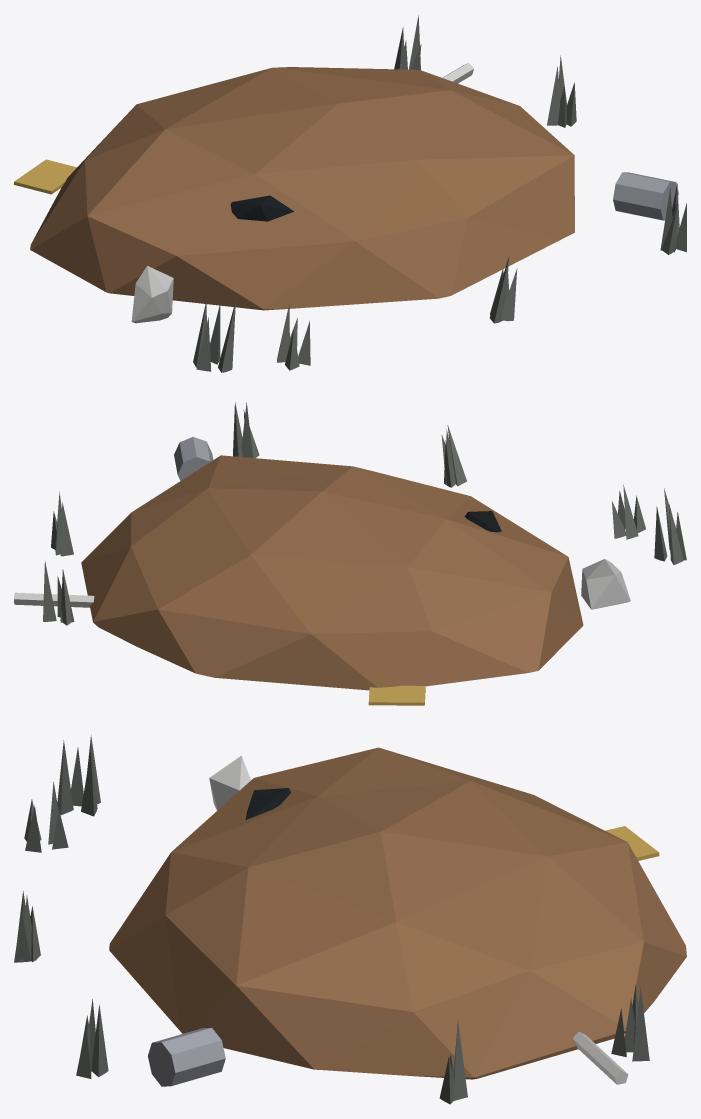
Rendered from lair-burrow.glb.
3 renders of one model, top to bottom at view 1: azimuth 30°, elevation 25°; view 2: azimuth 150°, elevation 25°; view 3: azimuth 270°, elevation 25°, orthographic. The views are drawn at different scales.
Parts seen in each view (by area): view 1: lair-burrow; view 2: lair-burrow; view 3: lair-burrow.
Boxes of the visible parts, x1,y1,x2,y2 form: lair-burrow: [14, 15, 686, 372]; lair-burrow: [14, 402, 686, 705]; lair-burrow: [14, 735, 686, 1104].
Bounding box in the file's own units: 3.55 × 0.6581 × 3.3.
